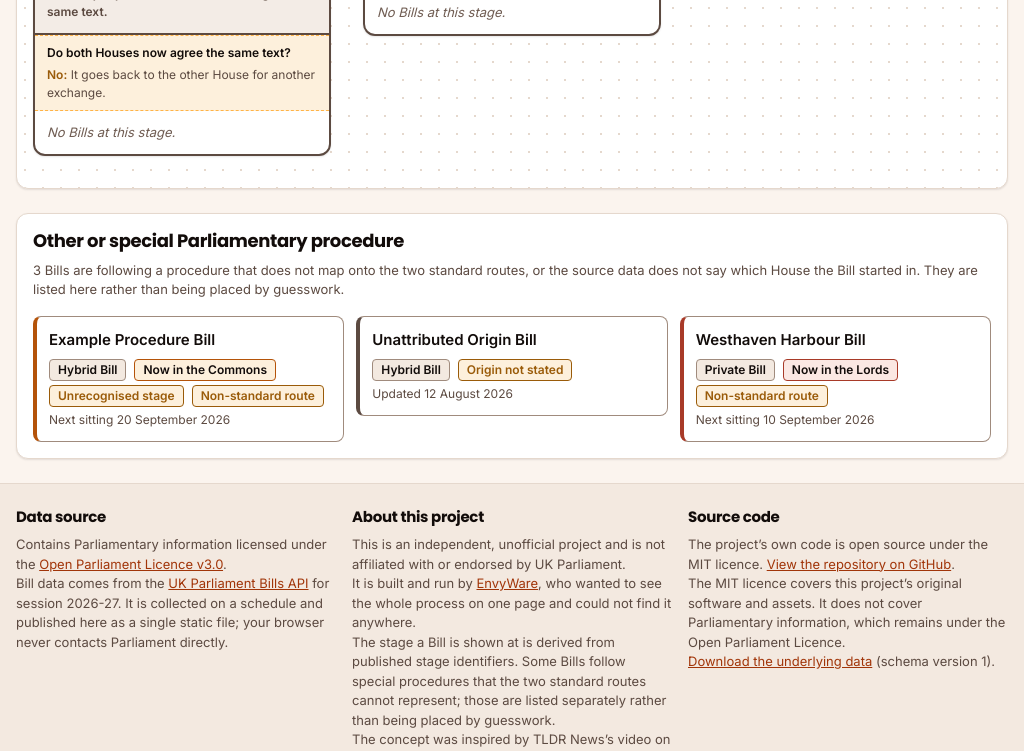
Test case: the details panel › explains a warning in full
(page scrolled)
Click the button "Example Procedure Bill".
click(189, 379)  # box [33,316,344,442]
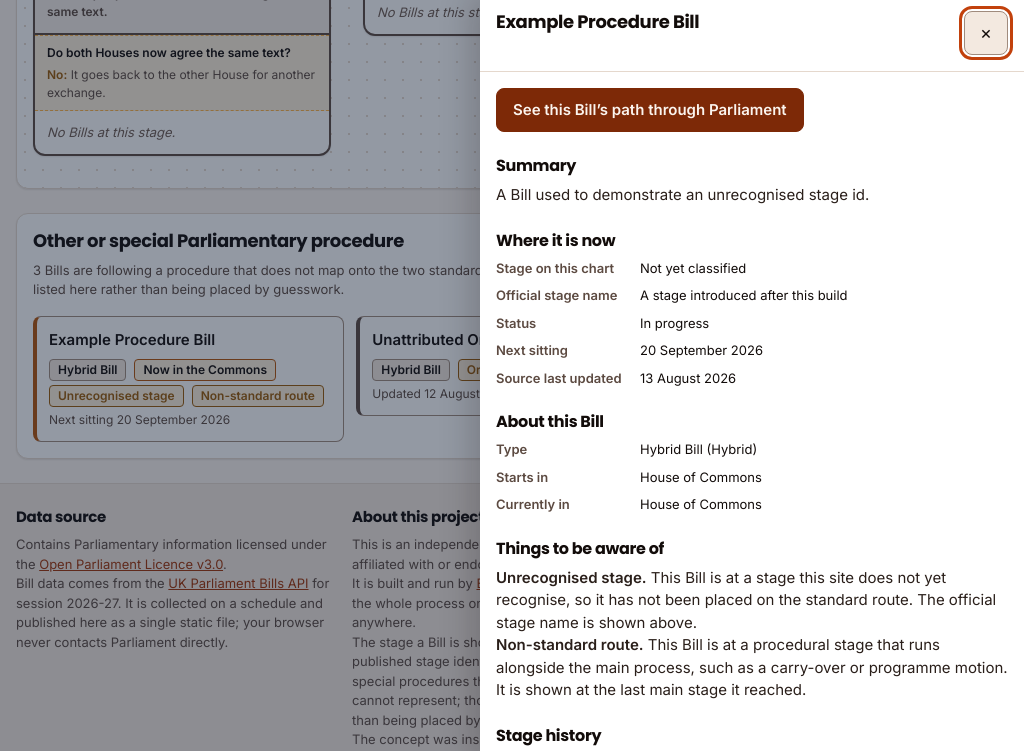
Now the list item "does not yet recognise" is shown, box [496,568,996,632]
